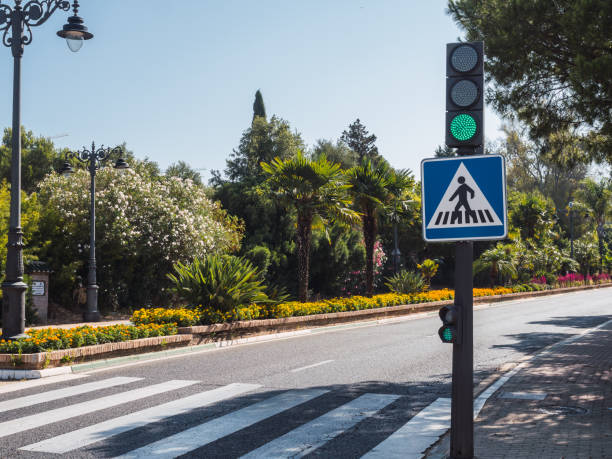yaya_gecidi: (419, 156, 525, 247)
